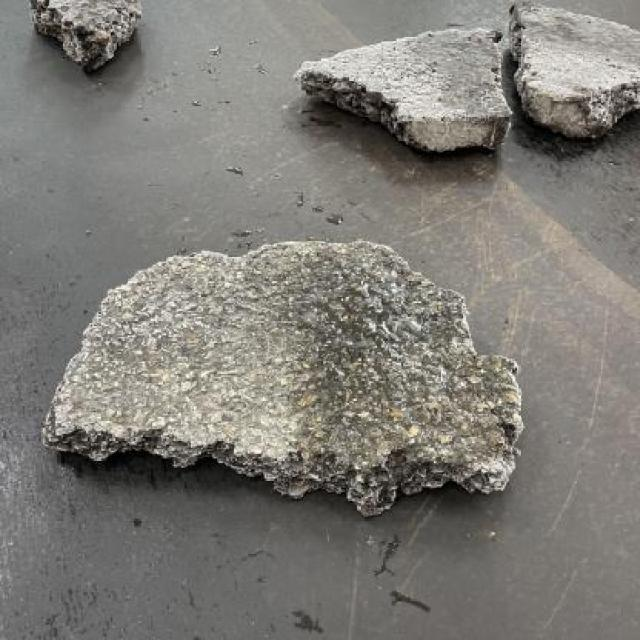Road Debris: (282, 236, 530, 478), (413, 24, 515, 130), (536, 6, 633, 51), (46, 4, 142, 46)
